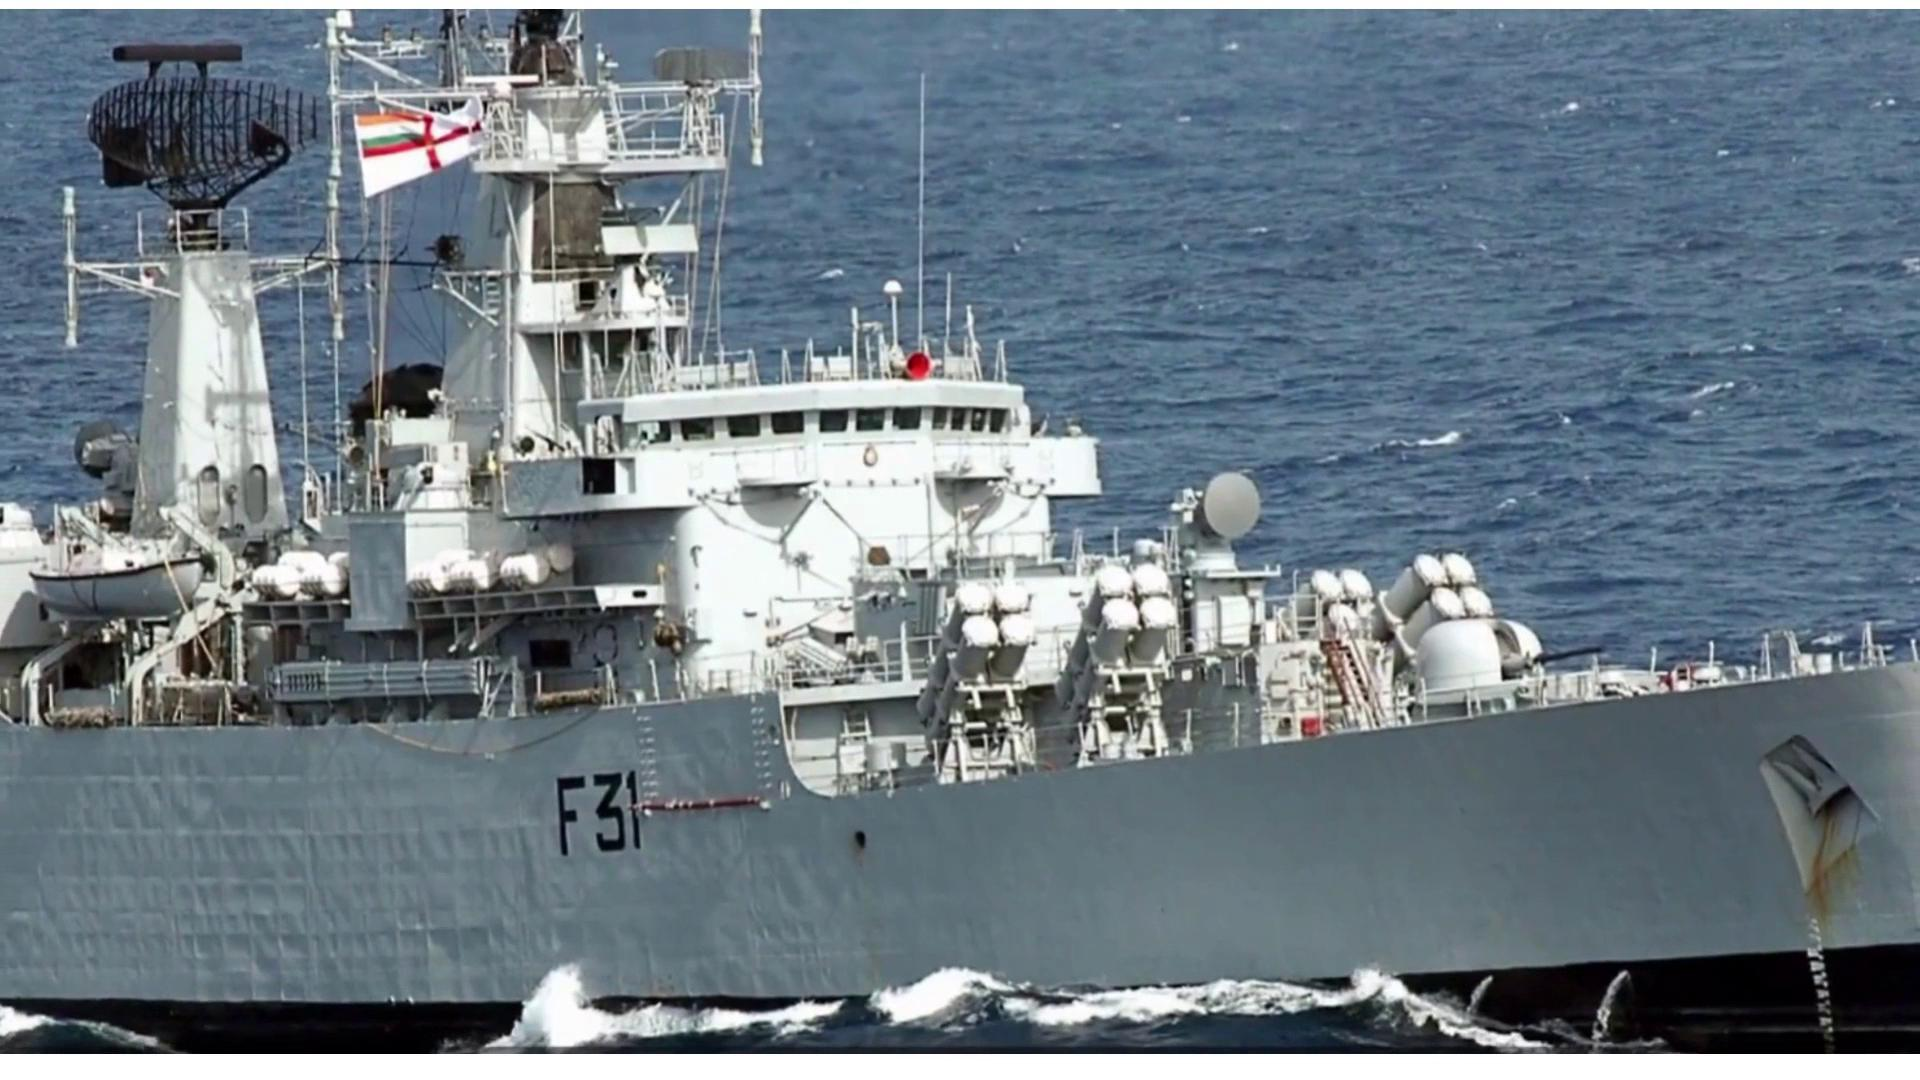OCR: (546, 761, 645, 861)
